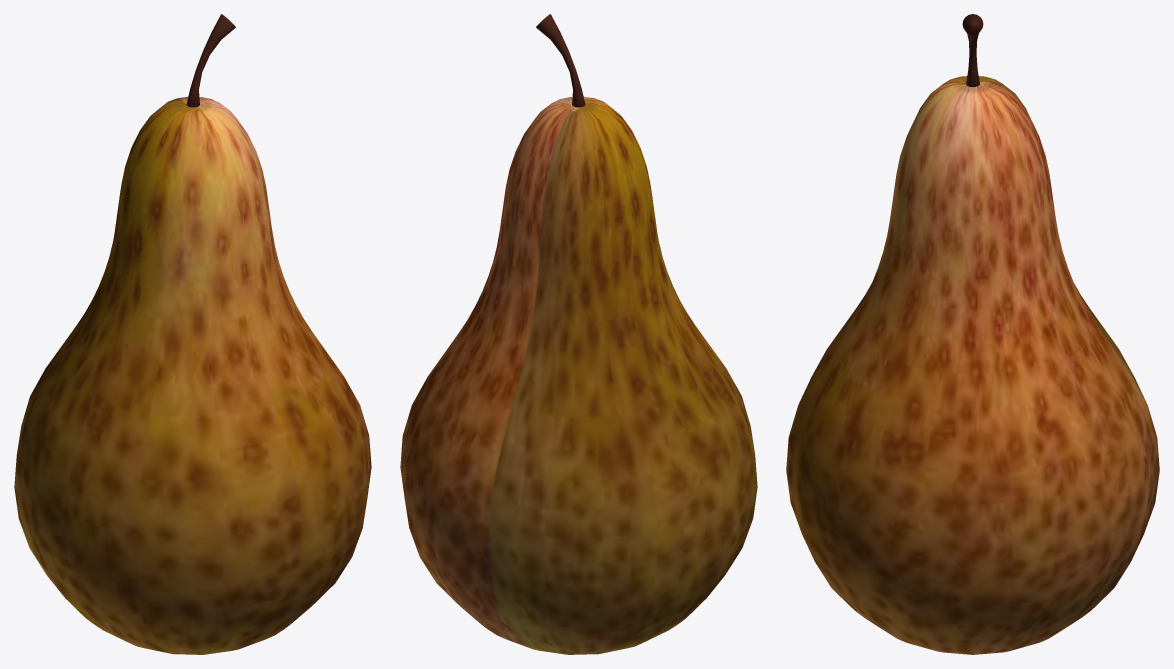
Rendered from pear fbx.FBX.
3 renders of one model, left to right at view 1: azimuth 30°, elevation 25°; view 2: azimuth 150°, elevation 25°; view 3: azimuth 270°, elevation 25°, orthographic. The views are drawn at different scales.
Parts seen in each view (by area): view 1: kruska; view 2: kruska; view 3: kruska.
Part boxes in pixels (left/top/right/bottom): kruska: left=14, top=14, right=371, bottom=654; kruska: left=400, top=14, right=757, bottom=654; kruska: left=786, top=14, right=1159, bottom=654.
Bounding box in the file's own units: 6.01 × 11.23 × 6.01.
Materials: 2 (1 with a texture image).
